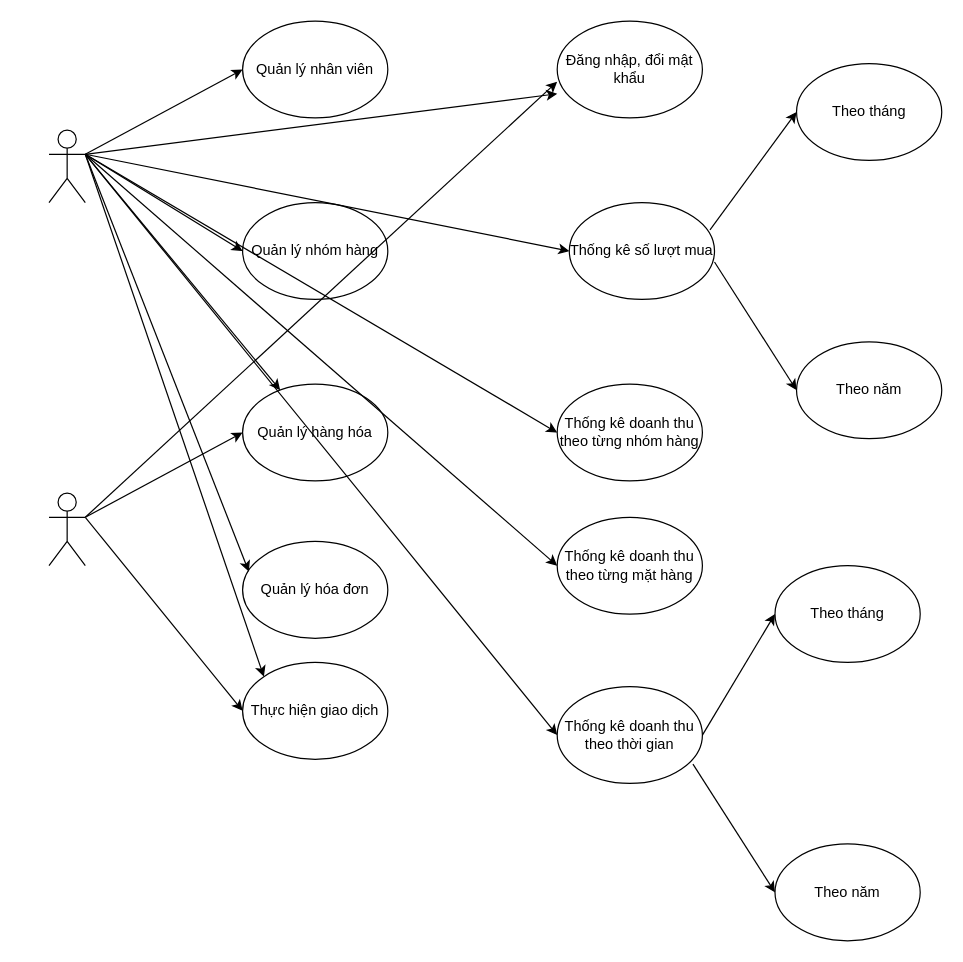
The diagram is 963 pixels wide and 962 high, and some of its shapes have lost their labels. Here are the shapes that lost their labels. From the top down, the centre of each, then its label:
At point 66,166: "Trưởng phòng".
At point 66,529: "Nhân viên".
